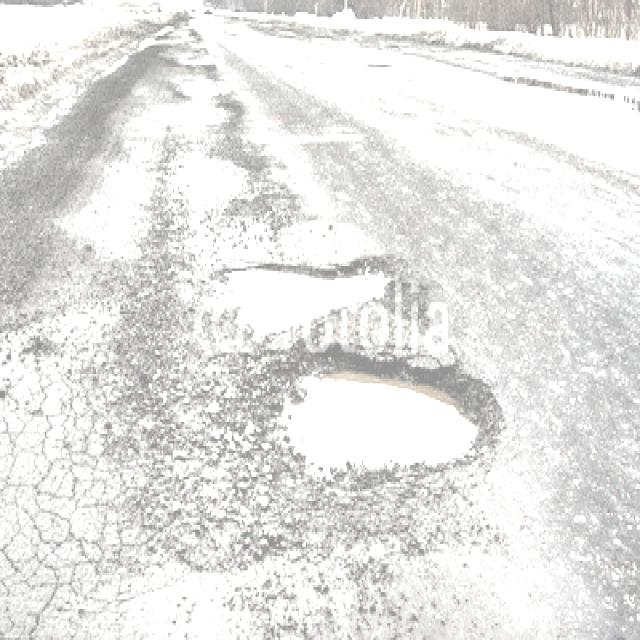Pothole: (133, 6, 504, 640)
